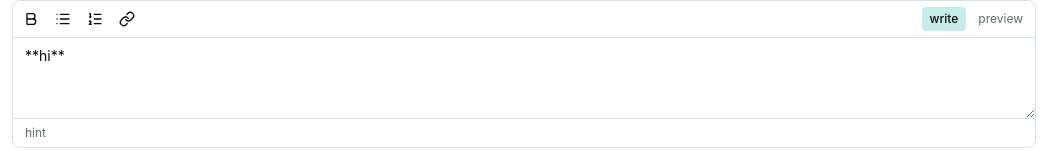
MarkdownEditor › previews the current text and keeps the textarea in the form
Click the button "preview".
click(1001, 19)  # box [970,7,1031,31]
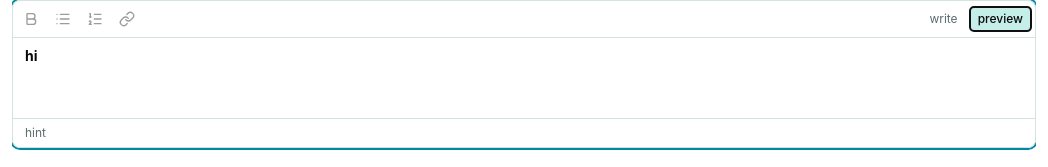
Now the text "hi" is shown, box [25,47,38,64]
Now the button named "bold" is disabled, box [17,5,45,33]
